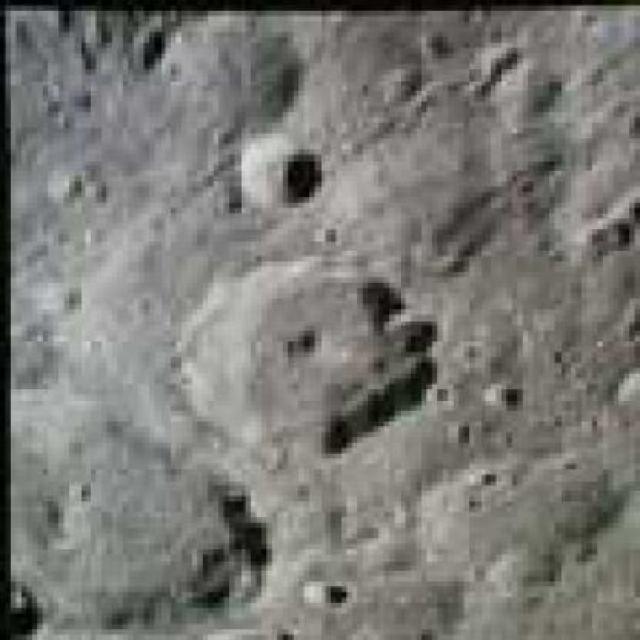crater: (0, 436, 263, 638), (192, 255, 442, 457), (243, 133, 328, 210)
